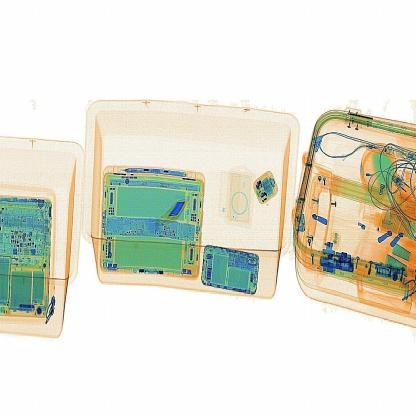pliers: (154, 189, 193, 230)
